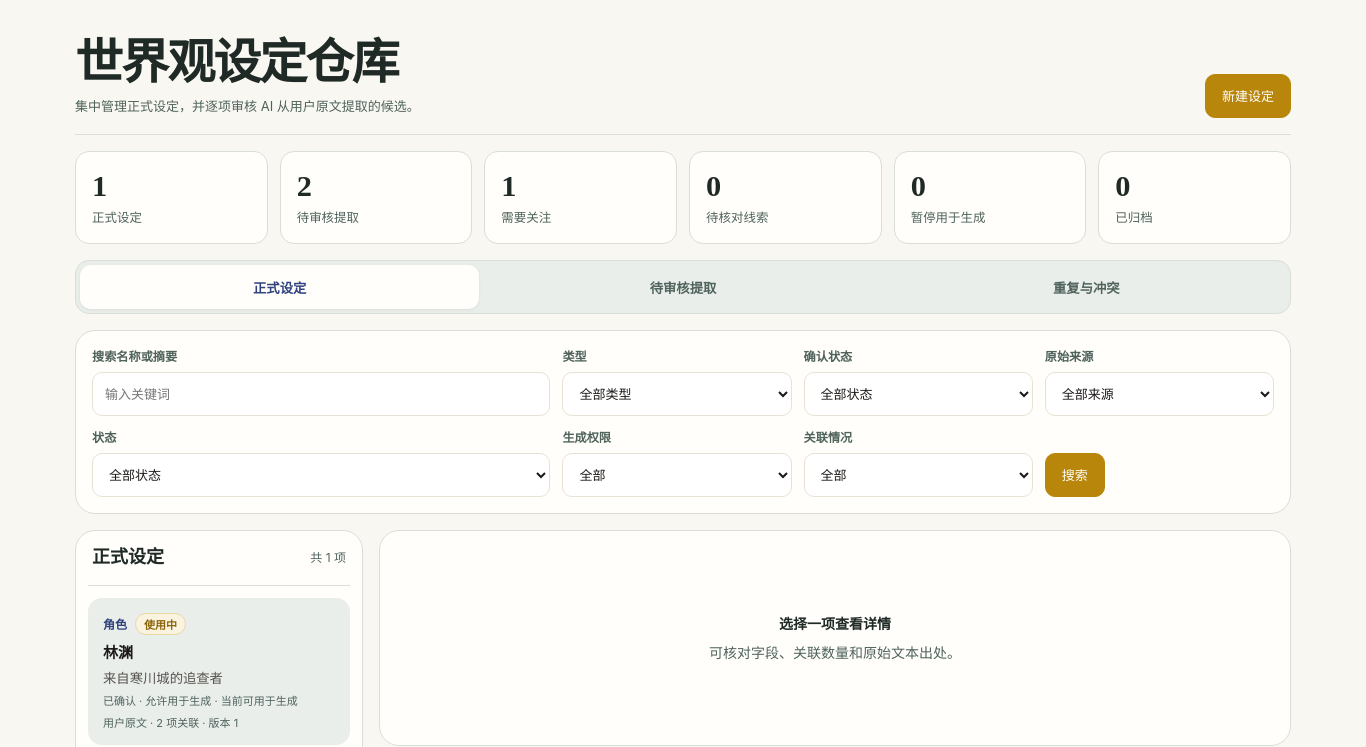
Scenario: LoreRepositoryPage › labels unlocated migration snapshots and loads only the matching retained raw source
(page scrolled)
Click the button "林渊": (219, 671) [88,598,350,745]
(page scrolled)
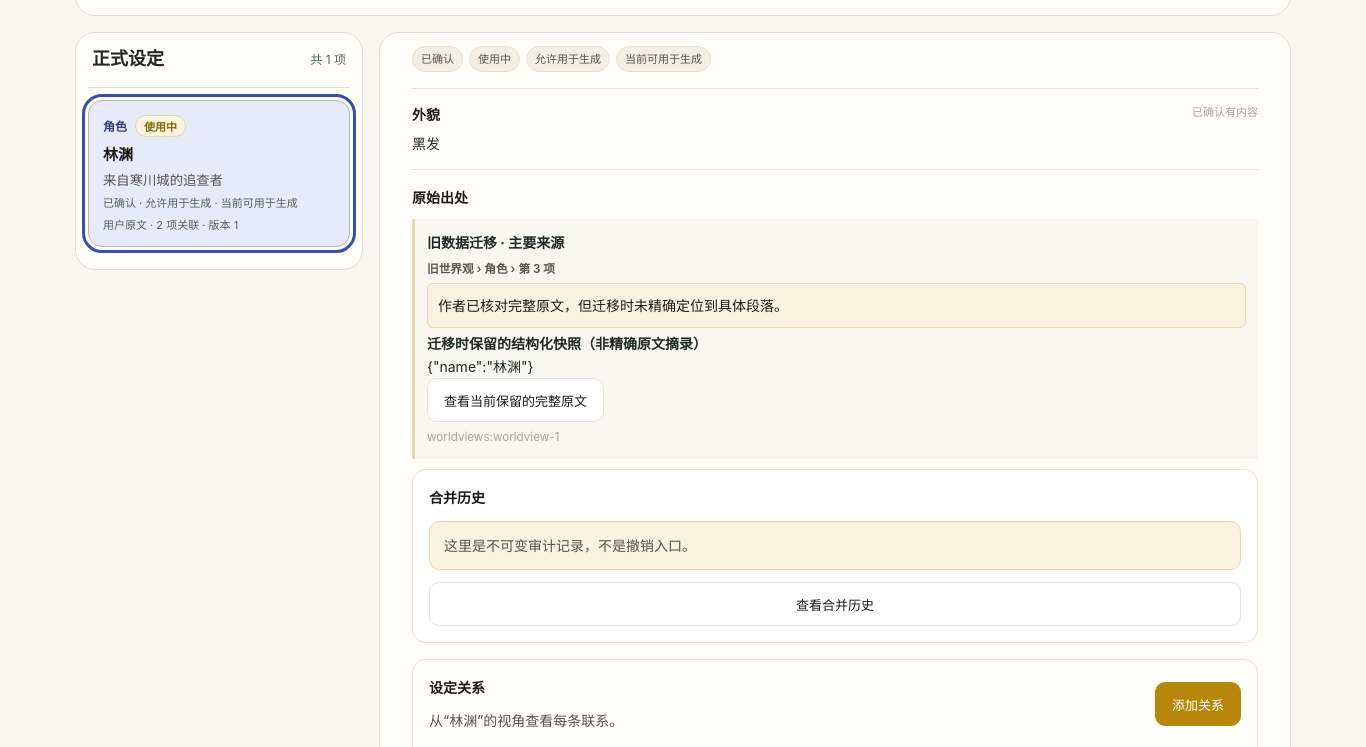
Now the text "旧世界观 › 角色 › 第 3 项" is shown, box [427,262,555,276]
Now the text "作者已核对完整原文，但迁移时未精确定位到具体段落。" is shown, box [427,283,1246,328]
Now the text "迁移时保留的结构化快照（非精确原文摘录）" is shown, box [427,335,707,352]
Click the button "查看当前保留的完整原文": (516, 400) [427,378,604,422]
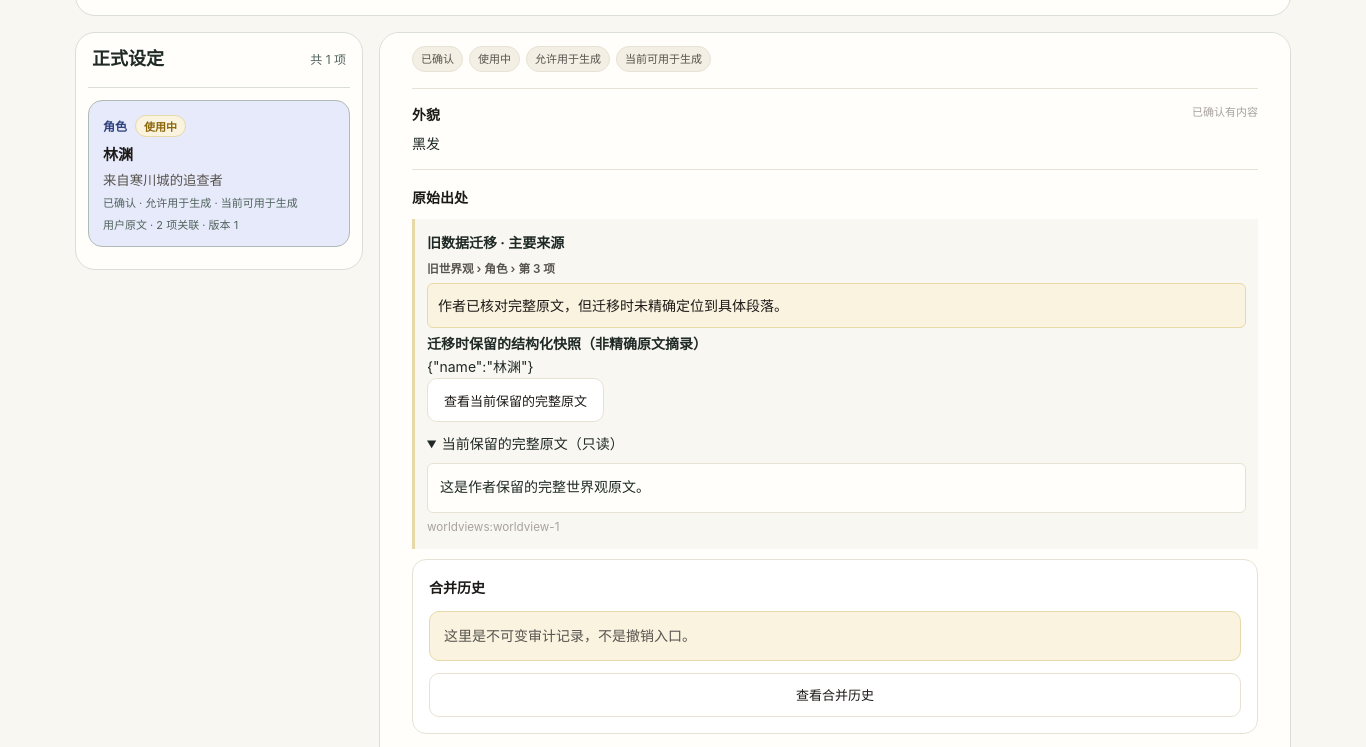
Now the text "这是作者保留的完整世界观原文。" is shown, box [427,463,1246,512]
